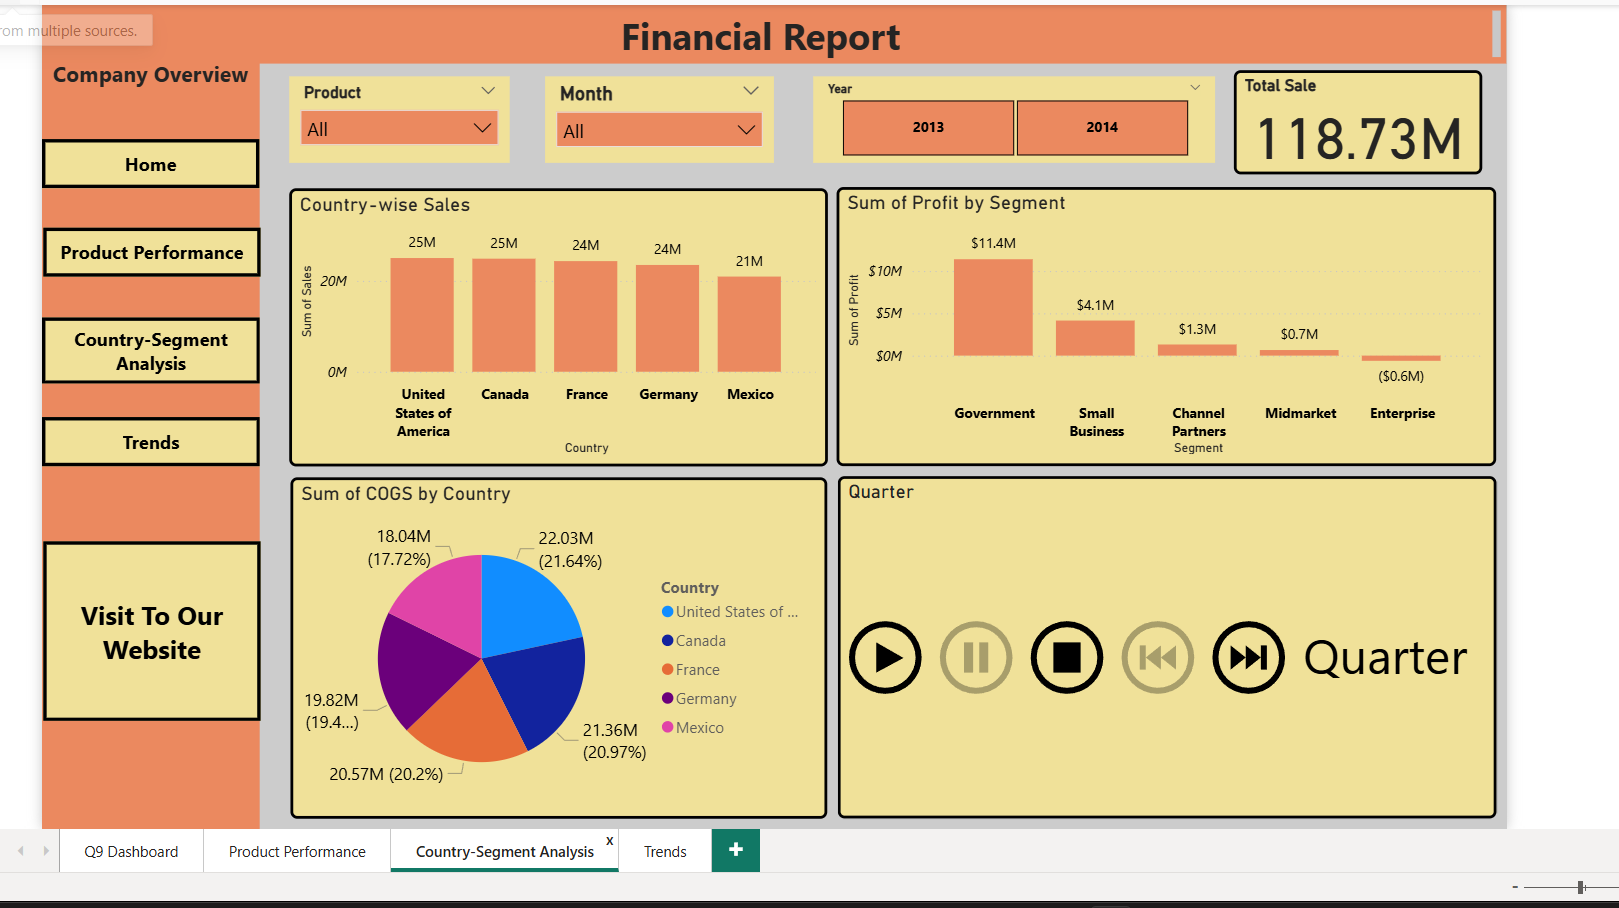

The page's visual inventory and layout, read from the dashboard file:
{"tool":"powerbi","page":{"name":"Country-Segment Analysis","canvas":[1280,720],"ordinal":2},"visuals":[{"type":"textbox","box":[0,0,1280,51.4],"z":0},{"type":"textbox","box":[0,41.4,190,678.6],"z":1000},{"type":"actionButton","box":[0,117.1,190,42.9],"z":2000},{"type":"actionButton","box":[0,273,190.5,58.1],"z":3000},{"type":"actionButton","box":[1.4,194.3,190,42.9],"z":4000},{"type":"actionButton","box":[0,360.1,190.5,43],"z":5000},{"type":"columnChart","title":"Country-wise Sales","fields":{"Y":["Sum(financials. Sales)"],"Category":["financials.Country"]},"box":[216.1,160.3,470.5,242.8],"z":6000},{"type":"slicer","fields":{"Values":["financials.Product"]},"box":[215.7,62.9,192.9,75.7],"z":7000},{"type":"slicer","fields":{"Values":["financials.Date.Variation.Date Hierarchy.Month"]},"box":[440,62.9,200,75.7],"z":8000},{"type":"actionButton","box":[1.4,468.6,190,157.1],"z":9000},{"type":"slicer","fields":{"Values":["financials.Date.Variation.Date Hierarchy.Year"]},"box":[674.3,62.9,351.4,75.7],"z":10000},{"type":"card","title":"Total Sale","fields":{"Values":["Sum(financials. Sales)"]},"box":[1041.4,57.1,217.1,91.4],"z":11000},{"type":"clusteredColumnChart","fields":{"Y":["Sum(financials.Profit)"],"Category":["financials.Segment"]},"box":[694.6,159.1,576.2,243.9],"z":12000},{"type":"pieChart","fields":{"Y":["Sum(financials.COGS)"],"Category":["financials.Country"]},"box":[217.2,412.4,469.3,298.5],"z":13000},{"type":"PBI_CV_16948668_E17D_454B_8664_2F2C470EA8C1","fields":{"category":["financials.Date.Variation.Date Hierarchy.Year","financials.Date.Variation.Date Hierarchy.Quarter","financials.Date.Variation.Date Hierarchy.Month"]},"box":[695,412,576,299],"z":13001}]}

Visuals, with their boxes on the page's 1280x720 design canvas (x1, y1, x2, y2). These are canvas units, not pixel positions in the 1619x908 screenshot, which may show the page scaled, cropped or inside an application window:
textbox: {"x1": 0, "y1": 0, "x2": 1280, "y2": 51}
textbox: {"x1": 0, "y1": 41, "x2": 190, "y2": 720}
actionButton: {"x1": 0, "y1": 117, "x2": 190, "y2": 160}
actionButton: {"x1": 0, "y1": 273, "x2": 190, "y2": 331}
actionButton: {"x1": 1, "y1": 194, "x2": 191, "y2": 237}
actionButton: {"x1": 0, "y1": 360, "x2": 190, "y2": 403}
"Country-wise Sales" columnChart: {"x1": 216, "y1": 160, "x2": 687, "y2": 403}
slicer - financials.Product: {"x1": 216, "y1": 63, "x2": 409, "y2": 139}
slicer - financials.Date.Variation.Date Hierarchy.Month: {"x1": 440, "y1": 63, "x2": 640, "y2": 139}
actionButton: {"x1": 1, "y1": 469, "x2": 191, "y2": 626}
slicer - financials.Date.Variation.Date Hierarchy.Year: {"x1": 674, "y1": 63, "x2": 1026, "y2": 139}
"Total Sale" card: {"x1": 1041, "y1": 57, "x2": 1258, "y2": 148}
clusteredColumnChart - Sum(financials.Profit) x financials.Segment: {"x1": 695, "y1": 159, "x2": 1271, "y2": 403}
pieChart - Sum(financials.COGS) x financials.Country: {"x1": 217, "y1": 412, "x2": 686, "y2": 711}
PBI_CV_16948668_E17D_454B_8664_2F2C470EA8C1 - financials.Date.Variation.Date Hierarchy.Year x financials.Date.Variation.Date Hierarchy.Quarter: {"x1": 695, "y1": 412, "x2": 1271, "y2": 711}
